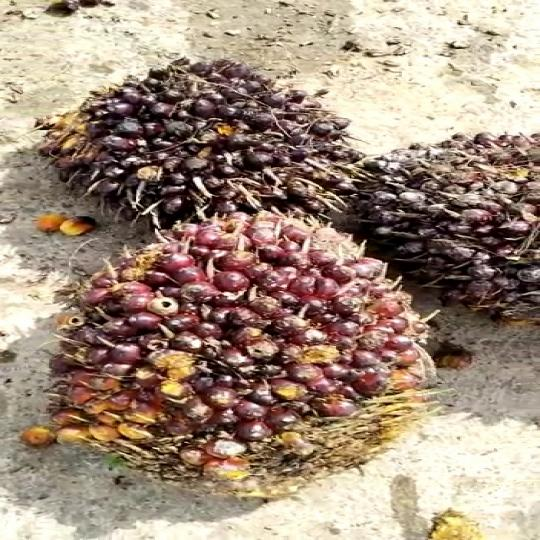kurang masak: (52, 203, 431, 490), (50, 57, 373, 226), (354, 131, 540, 333)
